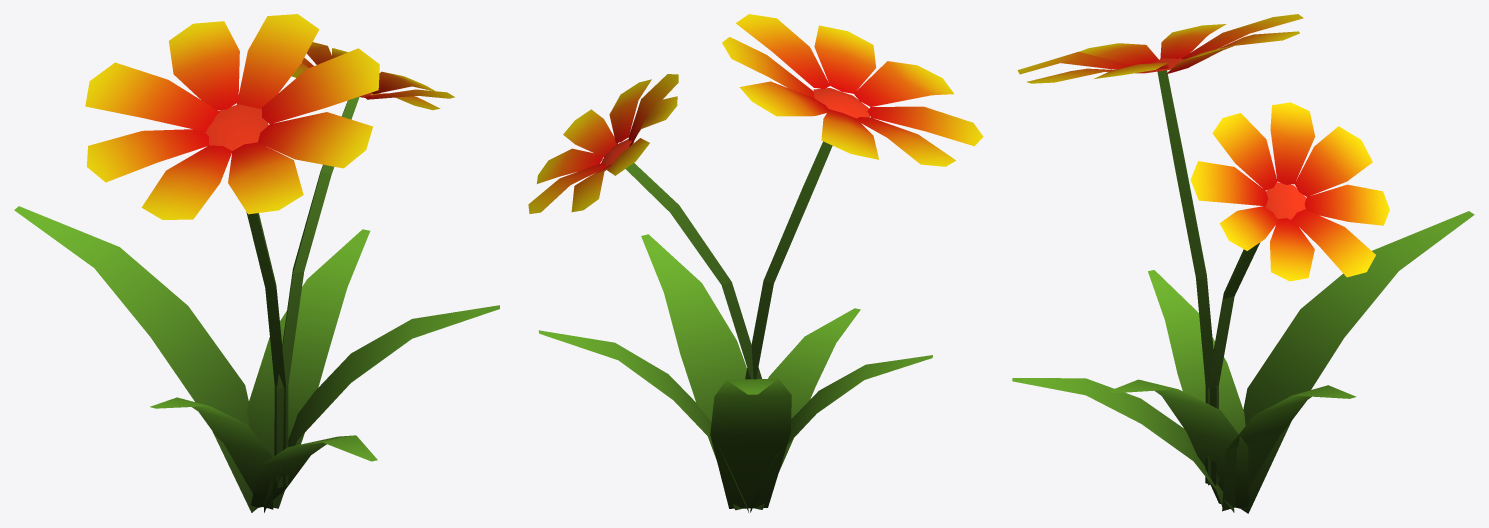
The model's file is flower04.fbx.
3 renders of one model, left to right at view 1: azimuth 30°, elevation 25°; view 2: azimuth 150°, elevation 25°; view 3: azimuth 270°, elevation 25°, orthographic. The views are drawn at different scales.
Parts seen in each view (by area): view 1: FlowerY1; view 2: FlowerY1; view 3: FlowerY1.
Part boxes in pixels (x1,y1,x2,y2): FlowerY1: [14, 14, 499, 512]; FlowerY1: [528, 14, 983, 512]; FlowerY1: [1012, 14, 1474, 513].
Bounding box in the file's own units: 98.41 × 117 × 103.
